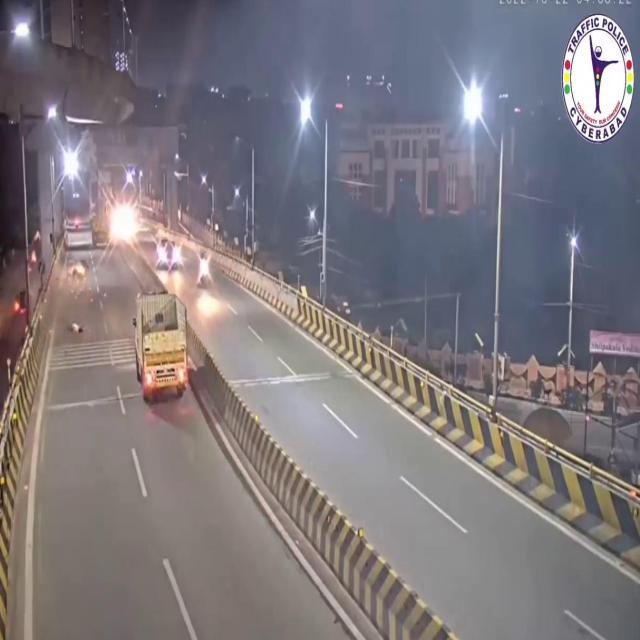accident: (56, 255, 93, 289)
